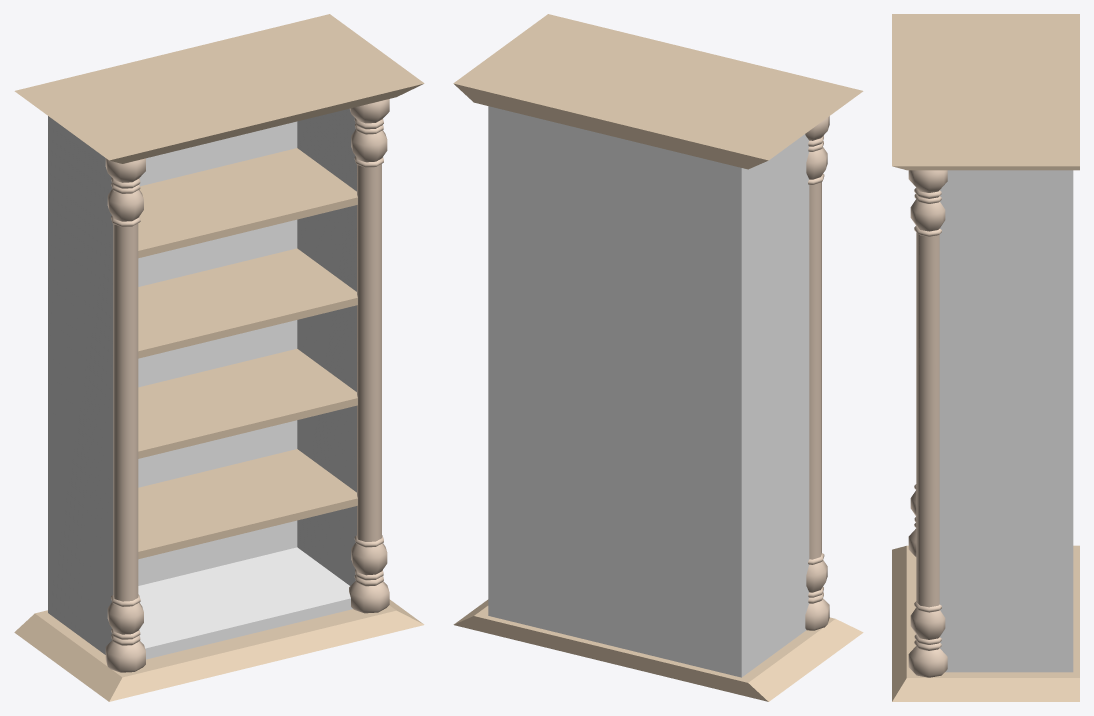
Rendered from Bookcase_A.fbx.
The picture shows the model from 3 angles, left to right: view 1: azimuth 30°, elevation 25°; view 2: azimuth 150°, elevation 25°; view 3: azimuth 270°, elevation 25°; orthographic projection.
Visible parts, largest first — view 1: polySurface7.001, polySurface1.001, polySurface2.001, polySurface2.003; view 2: polySurface1.001, polySurface7.001, polySurface2.001; view 3: polySurface1.001, polySurface7.001, polySurface2.003, polySurface2.001.
Boxes of the visible parts, x1,y1,x2,y2 form: polySurface7.001: [14, 14, 424, 701]; polySurface1.001: [48, 108, 356, 659]; polySurface2.001: [105, 158, 145, 672]; polySurface2.003: [349, 99, 389, 613]; polySurface1.001: [488, 106, 809, 677]; polySurface7.001: [453, 14, 863, 701]; polySurface2.001: [805, 116, 829, 630]; polySurface1.001: [939, 170, 1073, 672]; polySurface7.001: [892, 14, 1079, 701]; polySurface2.003: [908, 170, 947, 677]; polySurface2.001: [908, 484, 916, 556].
Bounding box in the file's own units: 122 × 200 × 63.48.
